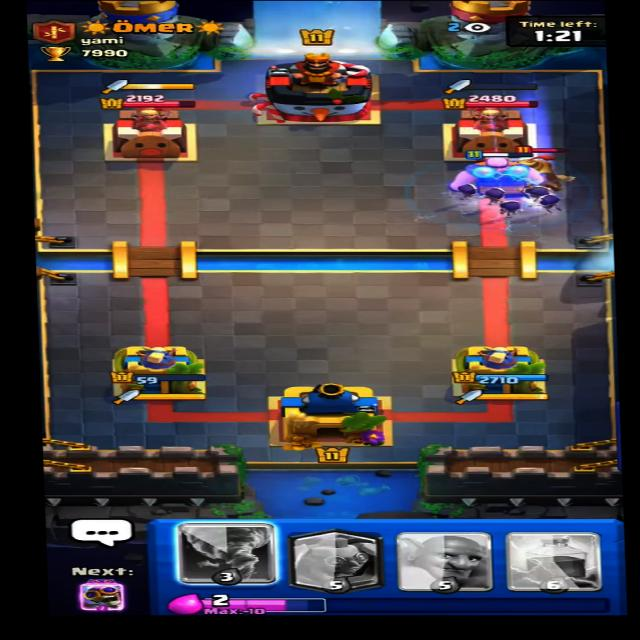prince: (506, 143, 573, 197)
